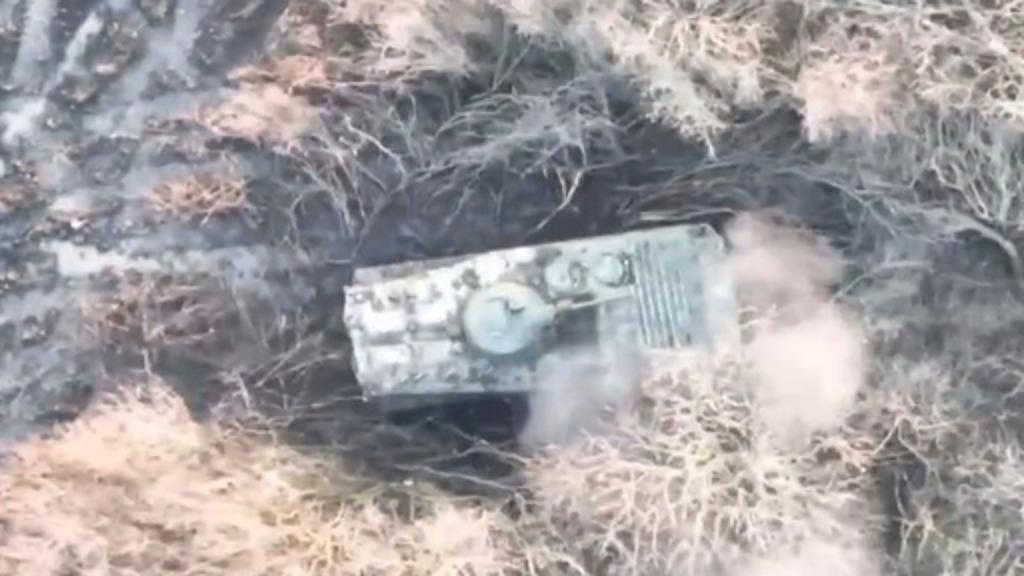APC-IFV: (326, 214, 750, 406)
